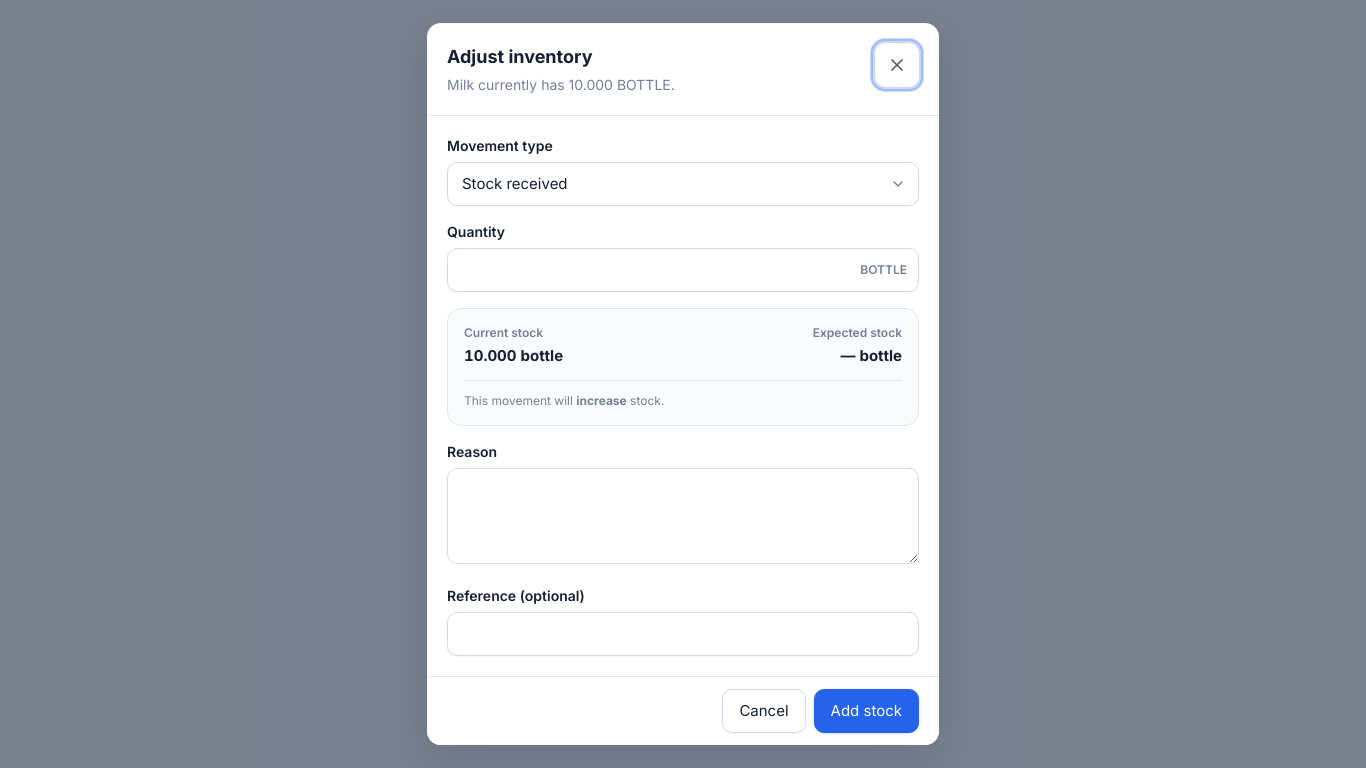
inventory UI foundations › displays insufficient-stock backend errors without retrying
In the field labelled "Quantity": (683, 270) [447,248,919,292], type "2.000"
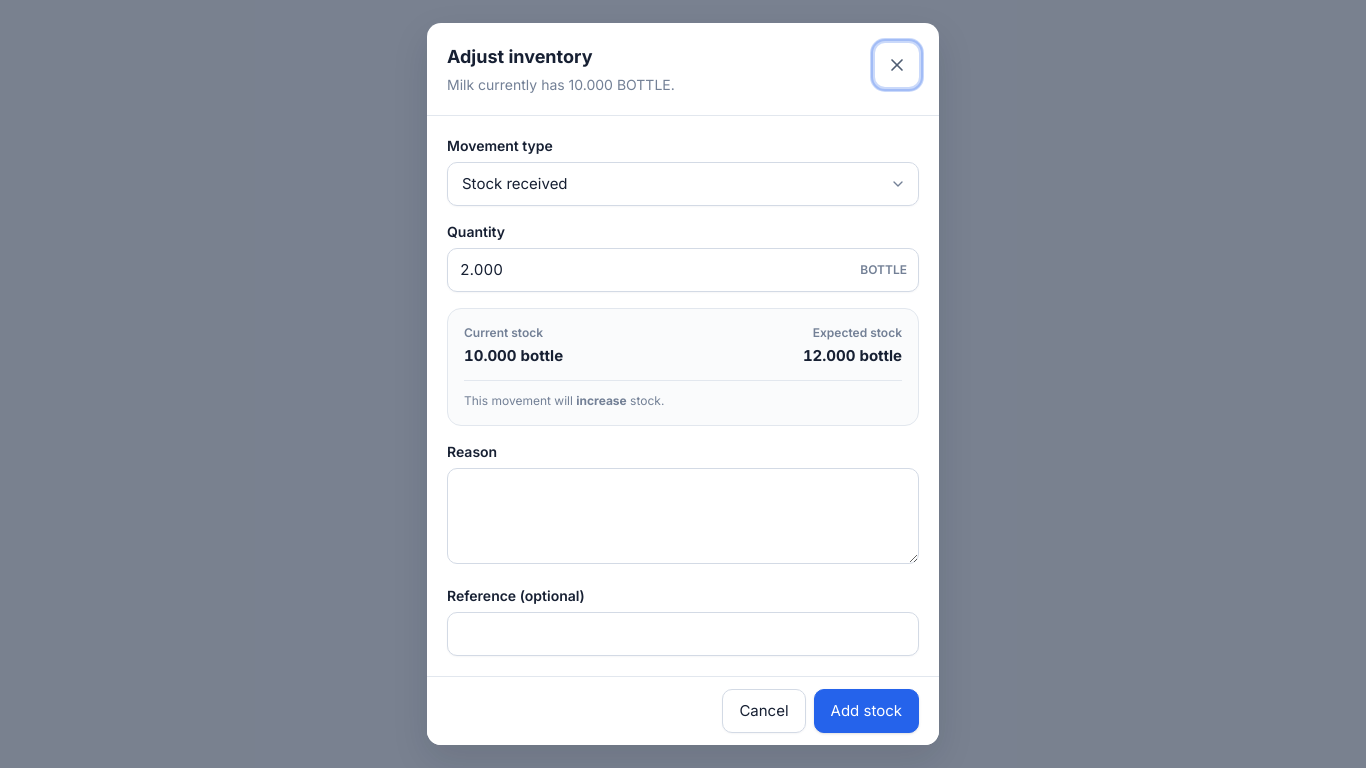
Click the button "Add stock": (866, 711) [814,689,919,733]
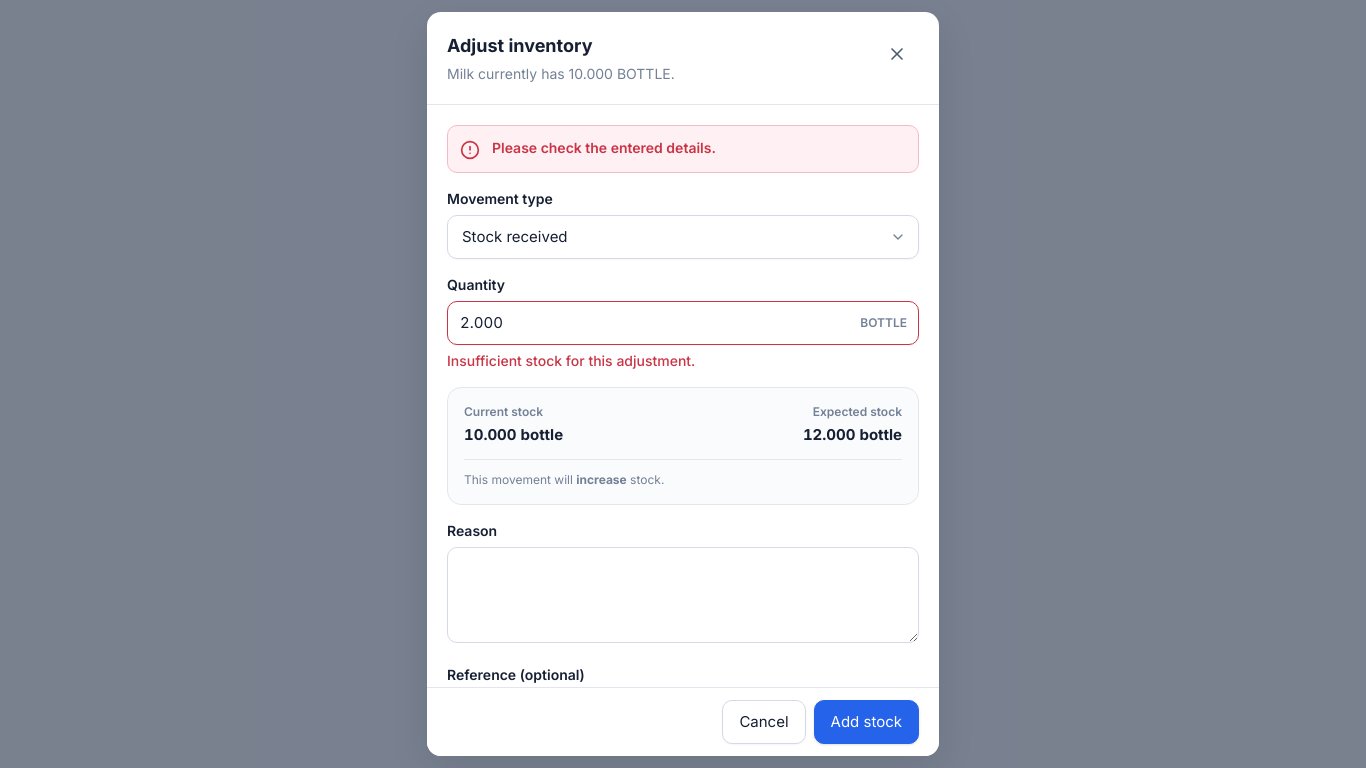
Expected: the text "Insufficient stock for this adjustment." is shown, [447,352,695,369]
